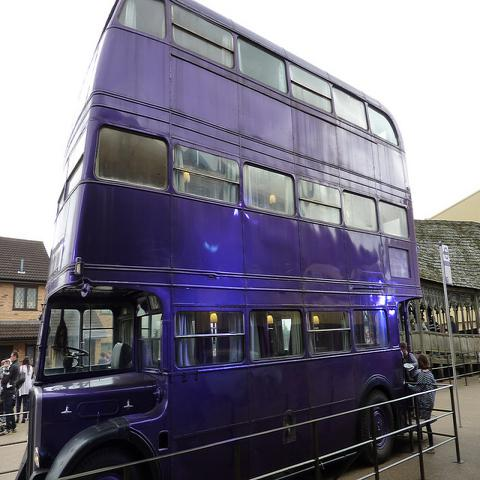bus: (20, 0, 423, 474)
